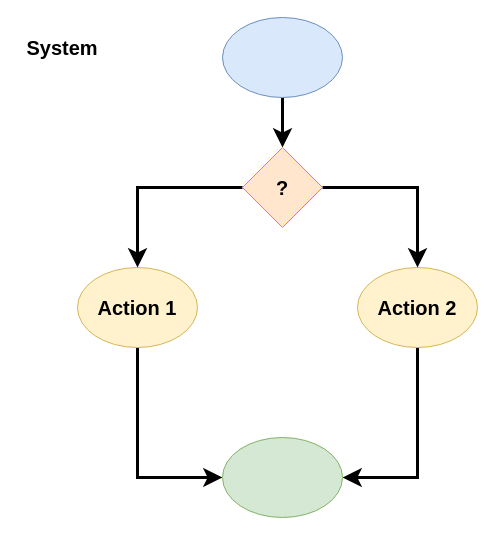
The diagram is 495 pixels wide and 535 high, and some of its shapes have lost their labels. Each missing label, with the centre of its shape:
"End" belongs at pixel 282 477.
"Start" belongs at pixel 282 57.
